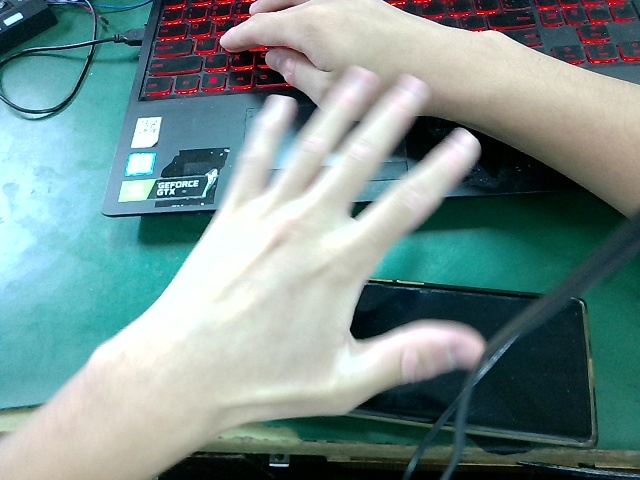paper: (109, 60, 499, 459)
